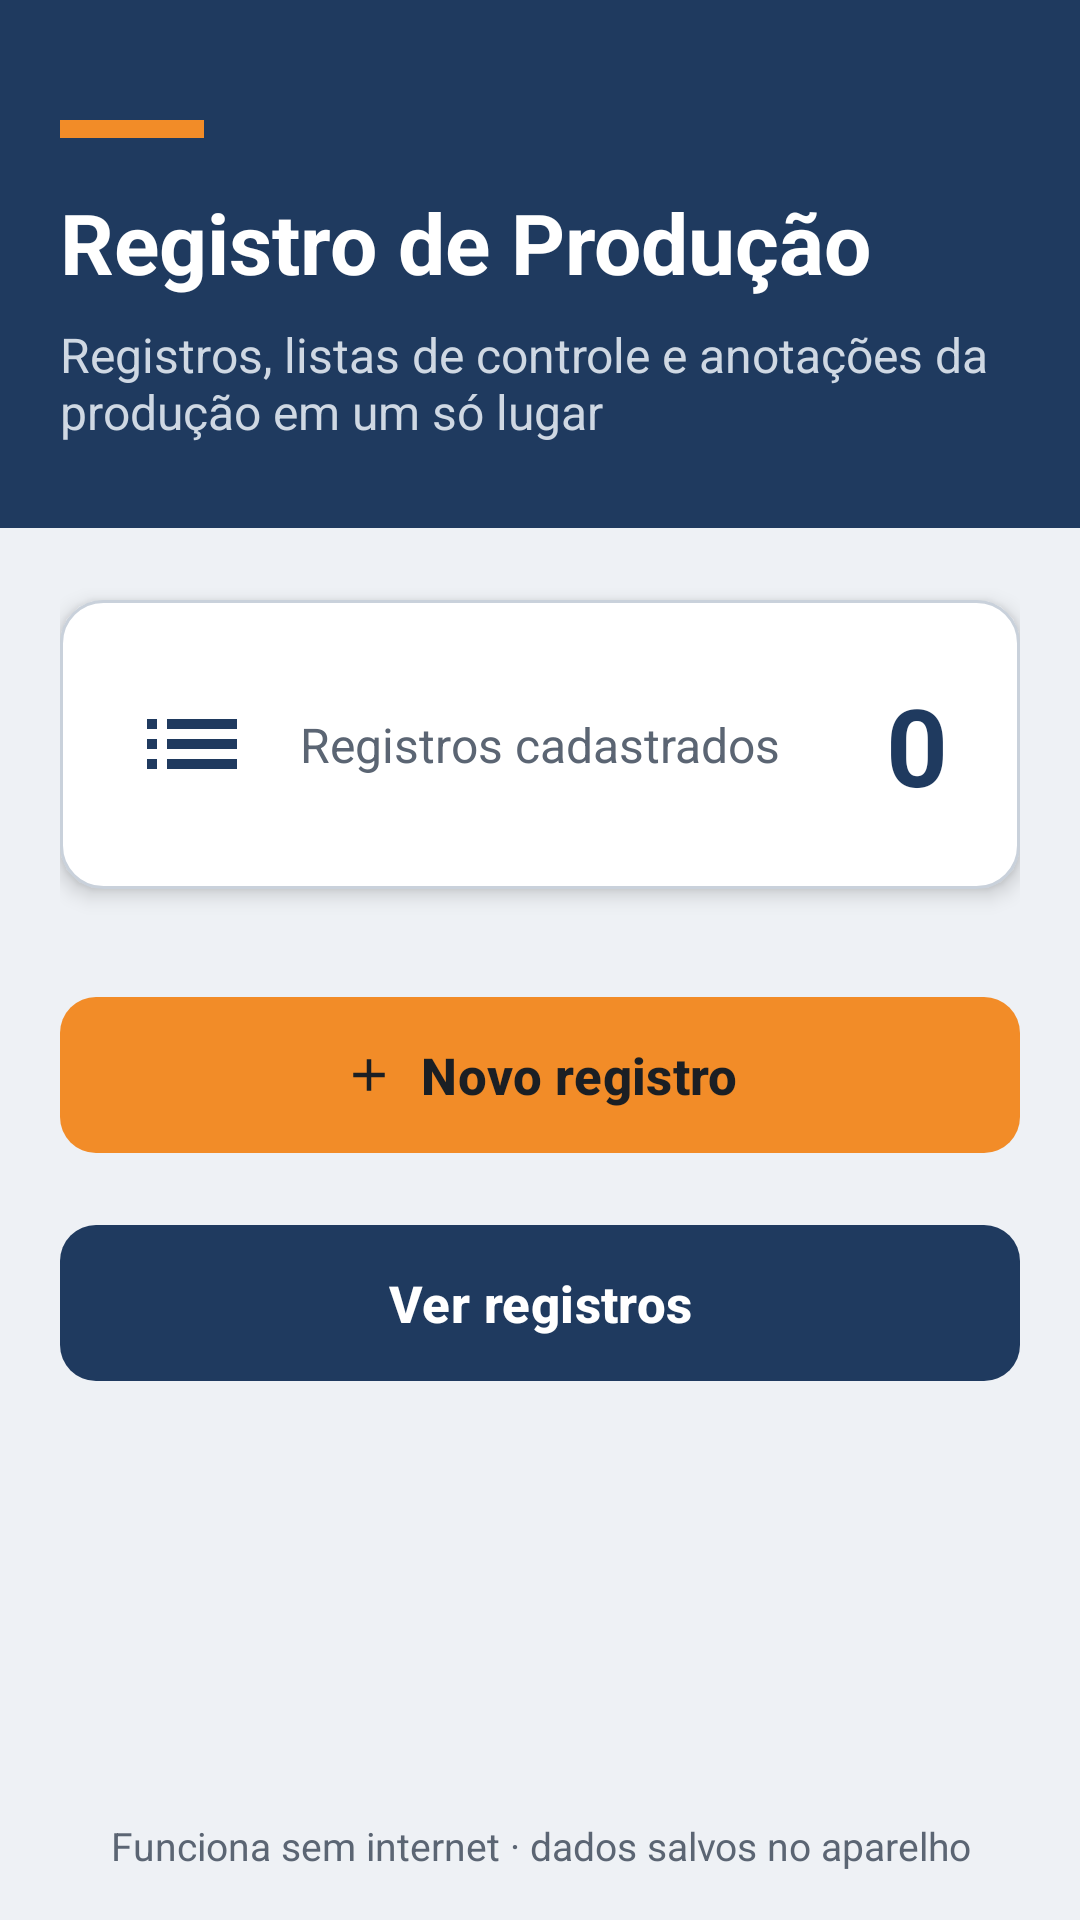

Icon bounding boxes for this 1080x1920 phone screenshot, format (x1, y1, x2, y2):
lista: (147, 719, 237, 769)
